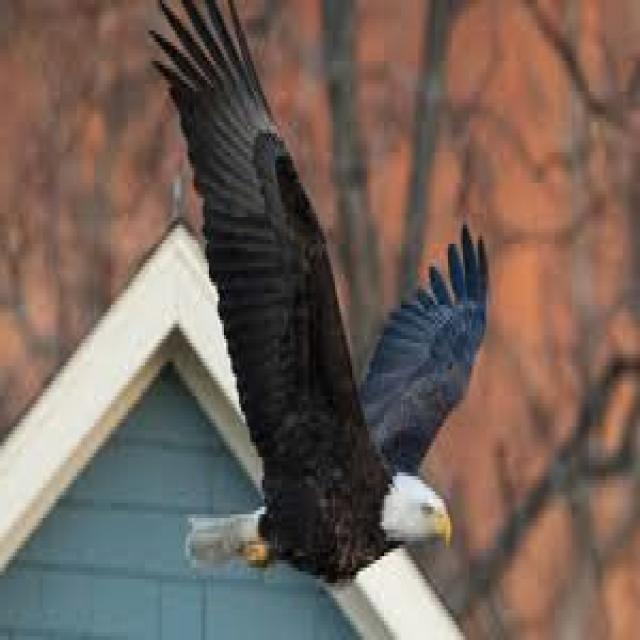eagle: (151, 0, 489, 579)
